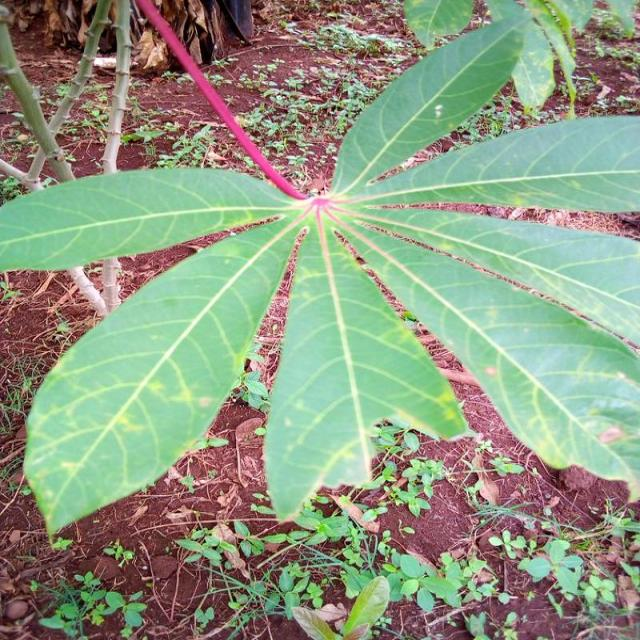cassava leaf: (4, 2, 638, 542), (22, 208, 304, 545), (262, 204, 475, 525), (329, 4, 530, 198)
